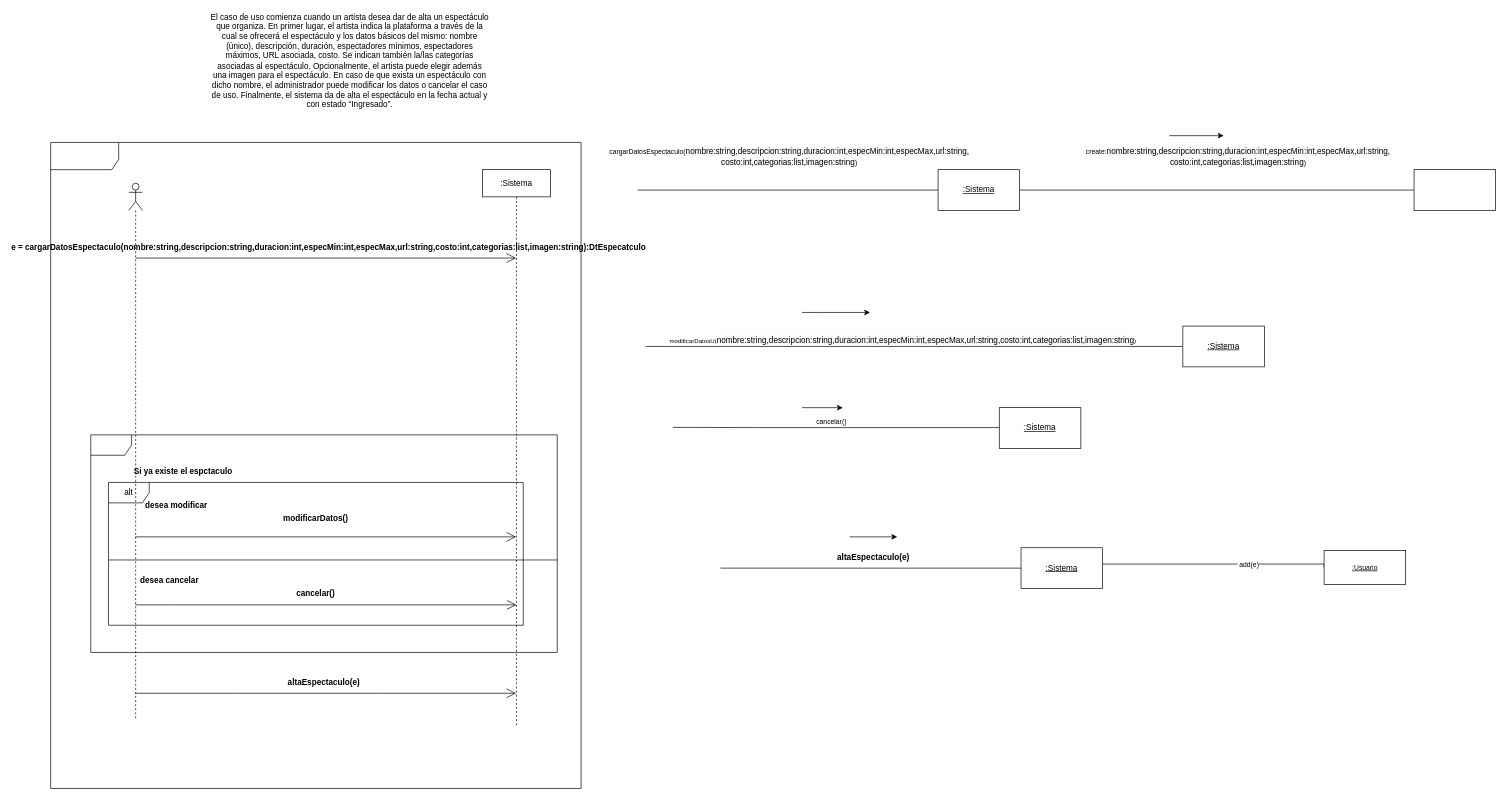
Image size: 1508x800. Some labels were removed from this diagram. The box of each missing label's shape, as (x1, y1, x2, y2) in pixels:
alta de espectaculo: (50, 142, 581, 788)
e:Espectador: (1413, 169, 1496, 210)
opc: (90, 434, 557, 652)
